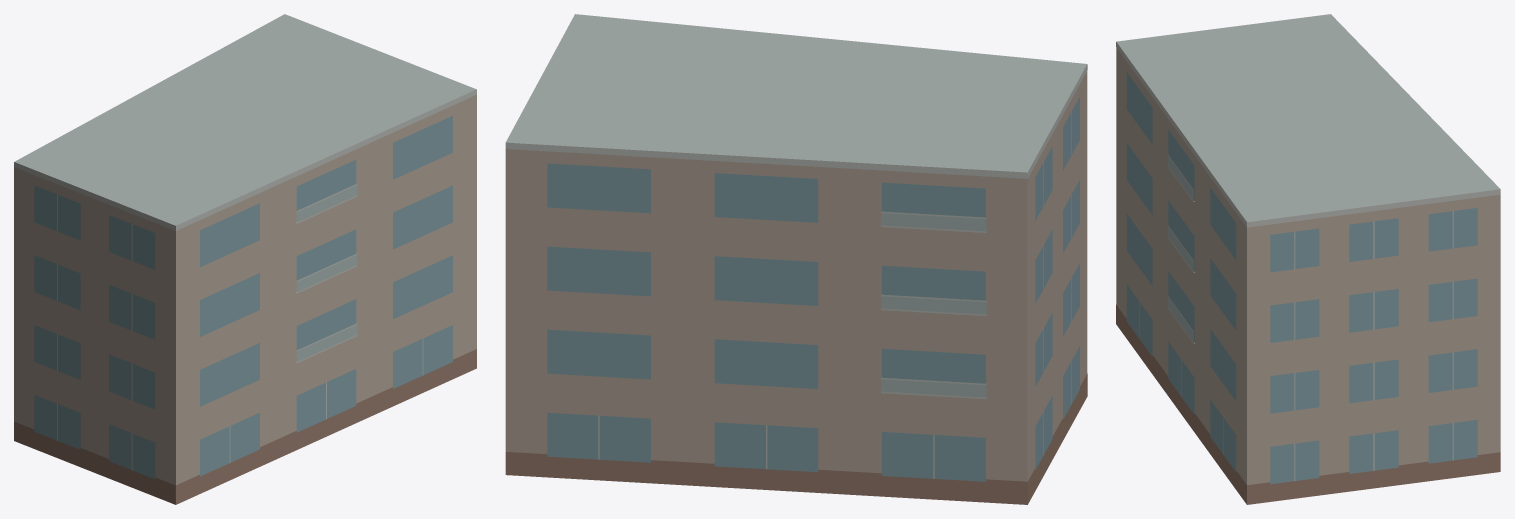
File: survey-upis-33005244.glb
3 renders of one model, left to right at view 1: azimuth 30°, elevation 25°; view 2: azimuth 150°, elevation 25°; view 3: azimuth 270°, elevation 25°, orthographic. The views are drawn at different scales.
Visible parts, largest first — view 1: survey-upis-33005244.tmp; view 2: survey-upis-33005244.tmp; view 3: survey-upis-33005244.tmp.
Part boxes in pixels (left/top/right/bottom): survey-upis-33005244.tmp: left=14, top=14, right=476, bottom=504; survey-upis-33005244.tmp: left=505, top=14, right=1087, bottom=504; survey-upis-33005244.tmp: left=1116, top=14, right=1500, bottom=504.
Bounding box in the file's own units: 20.4 × 12.9 × 15.92.
